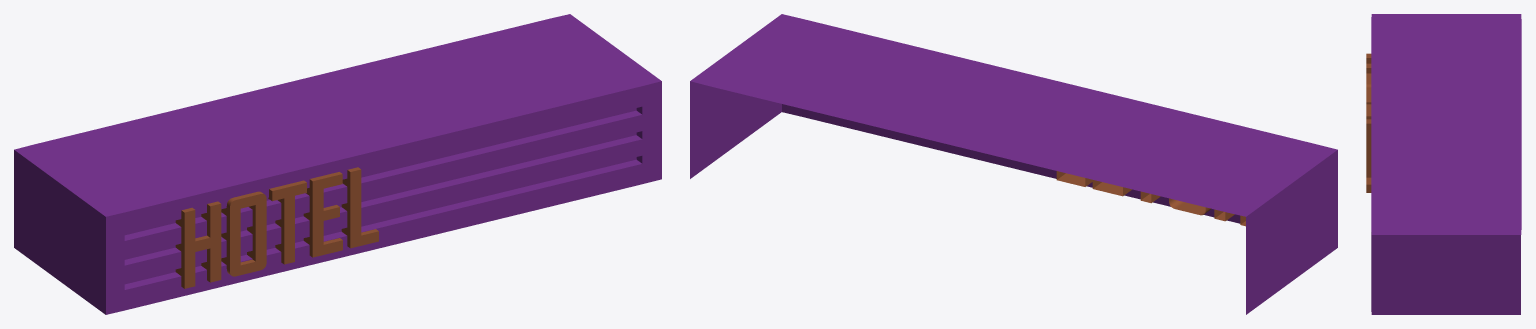
The model's file is hotel.fbx.
3 views of the same model, side by side, from view 1: azimuth 30°, elevation 25°; view 2: azimuth 150°, elevation 25°; view 3: azimuth 270°, elevation 25° (orthographic). The views are drawn at different scales.
Visible parts, largest first — view 1: Plane; view 2: Plane; view 3: Plane.
Boxes of the visible parts, x1,y1,x2,y2 form: Plane: (14, 14, 661, 314); Plane: (690, 14, 1337, 314); Plane: (1366, 14, 1521, 314).
Size of the model in its own units: 1840 by 310 by 547.
